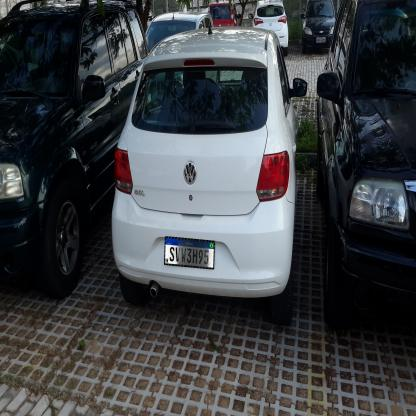PlacaM: (164, 236, 215, 270)
